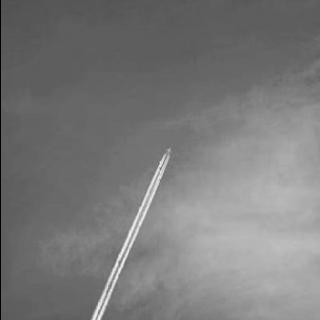Contrails: (46, 127, 208, 320)
